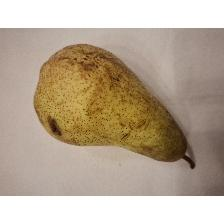Birne: (30, 40, 200, 174)
